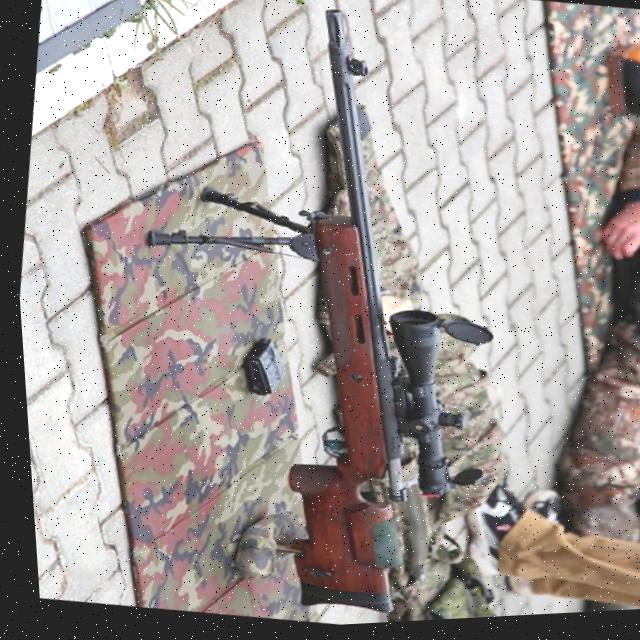firearm: (238, 1, 550, 630)
